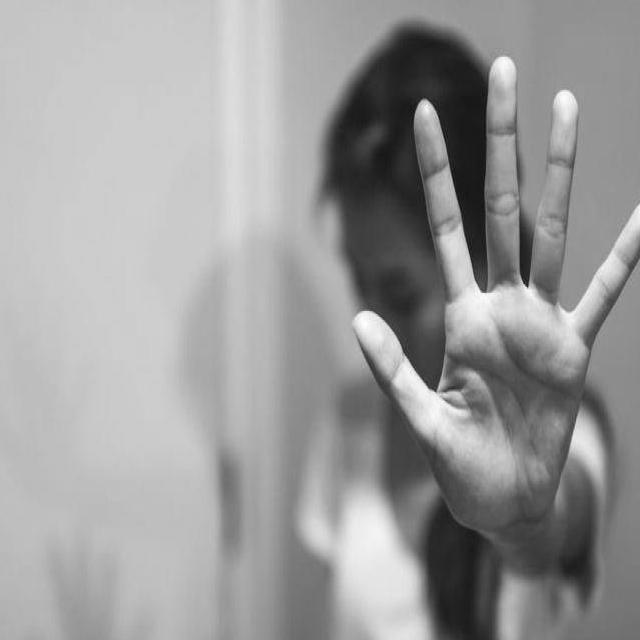stop: (347, 48, 640, 542)
